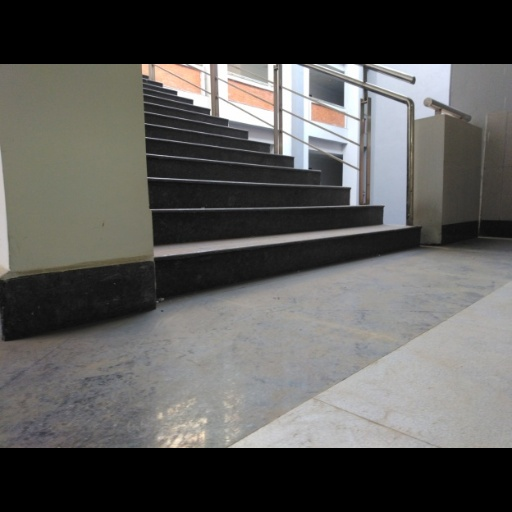Stairs: (144, 78, 420, 296)
